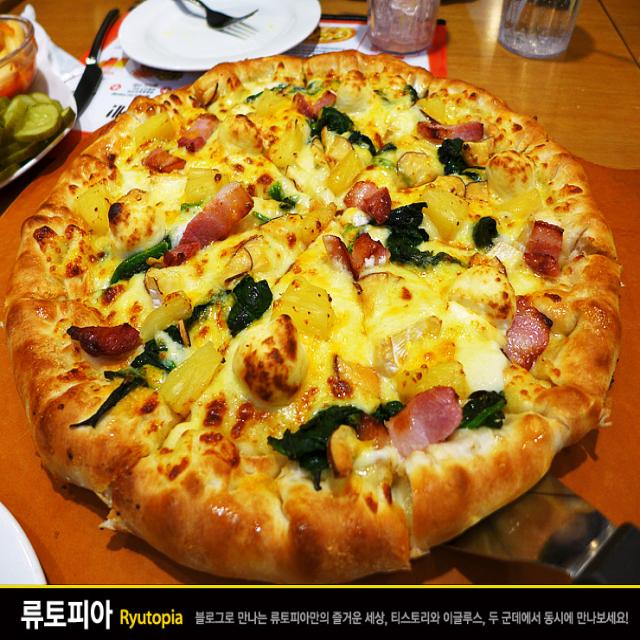Wet Waste: (3, 44, 626, 581)
